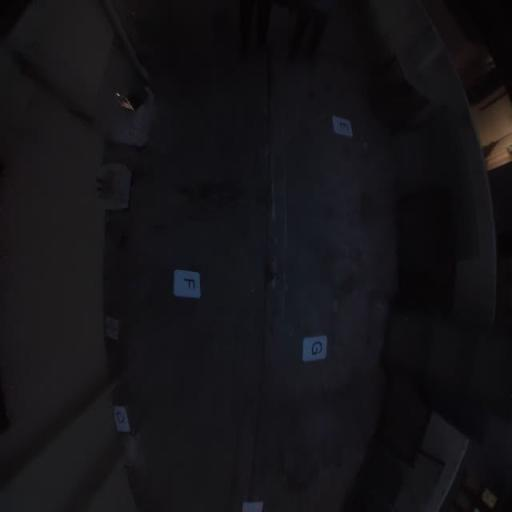D: (114, 405, 130, 433)
E: (332, 115, 354, 138)
F: (174, 268, 202, 298)
G: (302, 335, 328, 362)
